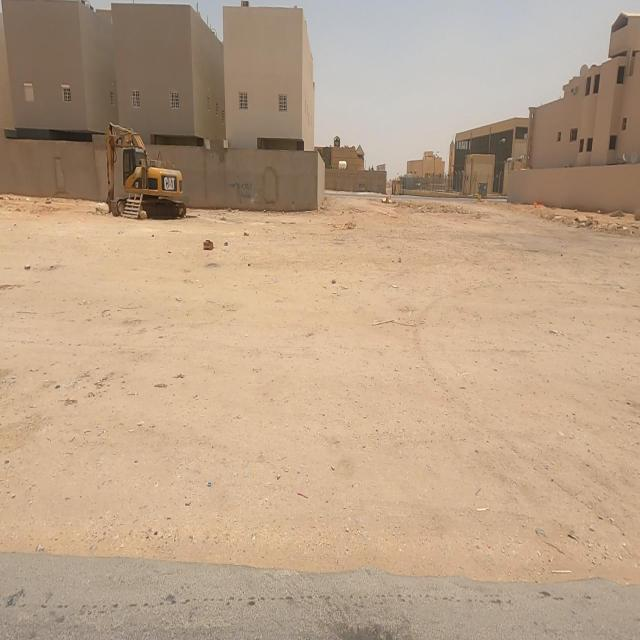Graffiti: (228, 181, 253, 201)
